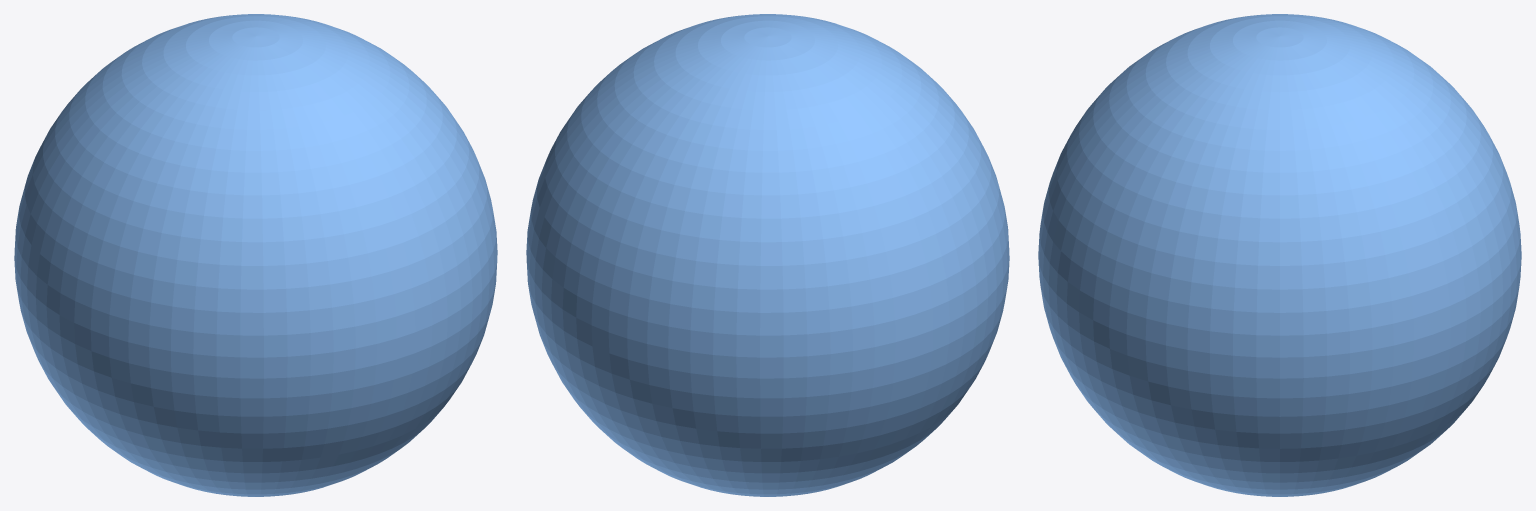
File: earth.glb
3 renders of one model, left to right at view 1: azimuth 30°, elevation 25°; view 2: azimuth 150°, elevation 25°; view 3: azimuth 270°, elevation 25°, orthographic.
Parts seen in each view (by area): view 1: Atmosphere; view 2: Atmosphere; view 3: Atmosphere.
Boxes of the visible parts, box(x1,y1,x2,y2) form: Atmosphere: box(14, 14, 497, 496); Atmosphere: box(526, 14, 1009, 496); Atmosphere: box(1038, 14, 1521, 496).
Size of the model in its own units: 2.06 by 2.06 by 2.06.
